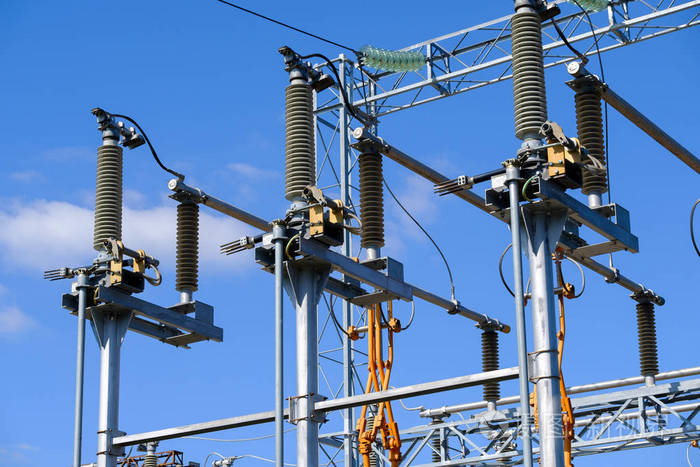insulator: (357, 43, 425, 73)
